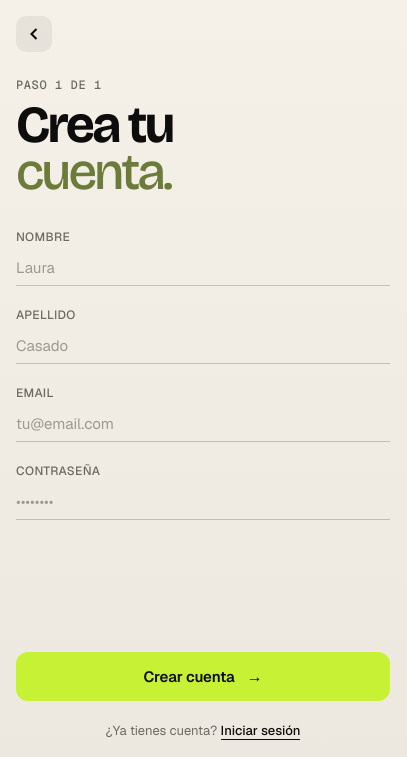
Scenario: RegisterPage › shows PasswordStrengthIndicator when password is typed
The image size is (407, 757).
Type "A" into the password field labelled "Contraseña" at (203, 502), box x1=16 y1=484 x2=390 y2=520
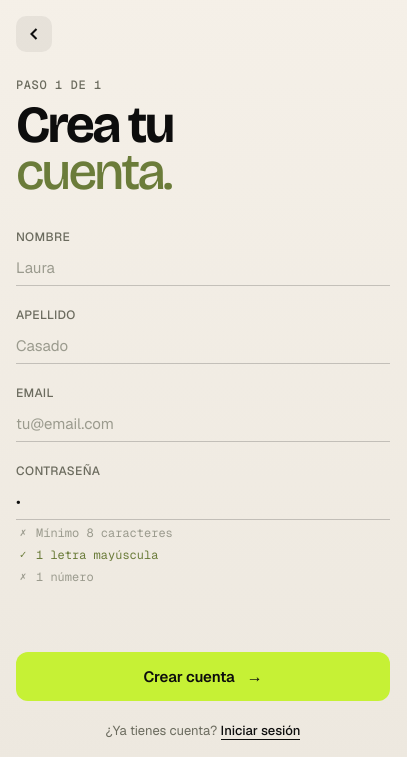
Expected: the list named "Requisitos de contraseña" is shown, x1=20 y1=525 x2=173 y2=585
